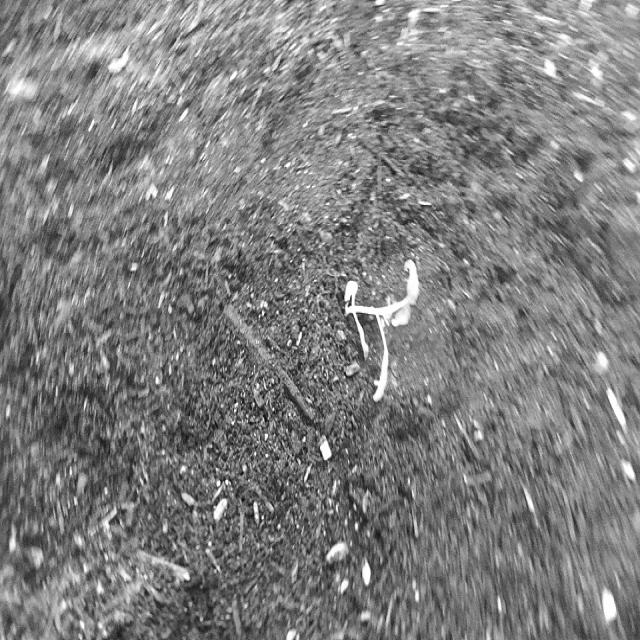Healthy: (334, 237, 434, 418)
